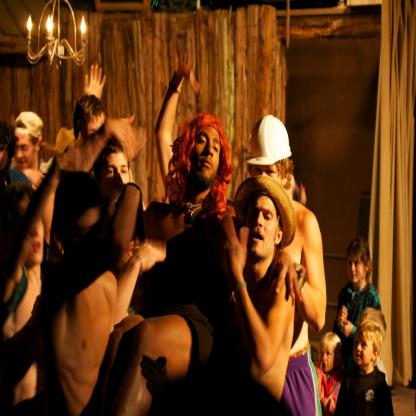Helmet: (248, 115, 295, 176)
